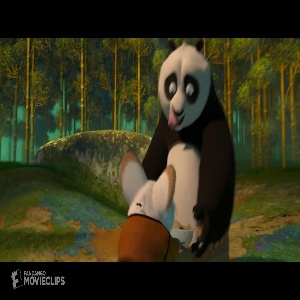po: (141, 39, 235, 261)
shifu: (115, 149, 185, 263)
